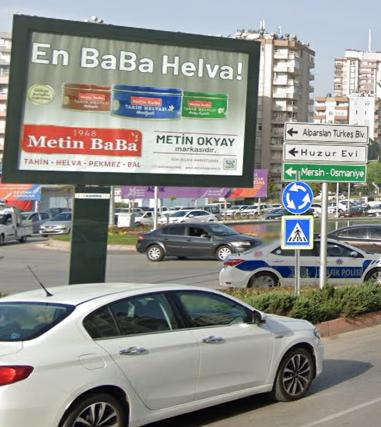crossroads: (282, 181, 315, 215)
